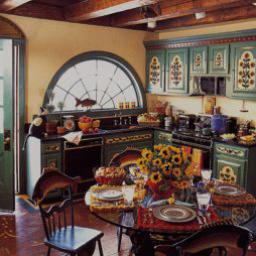Electrodomestico: (69, 138, 102, 197), (181, 128, 215, 181)
Puerta: (0, 44, 20, 213)
